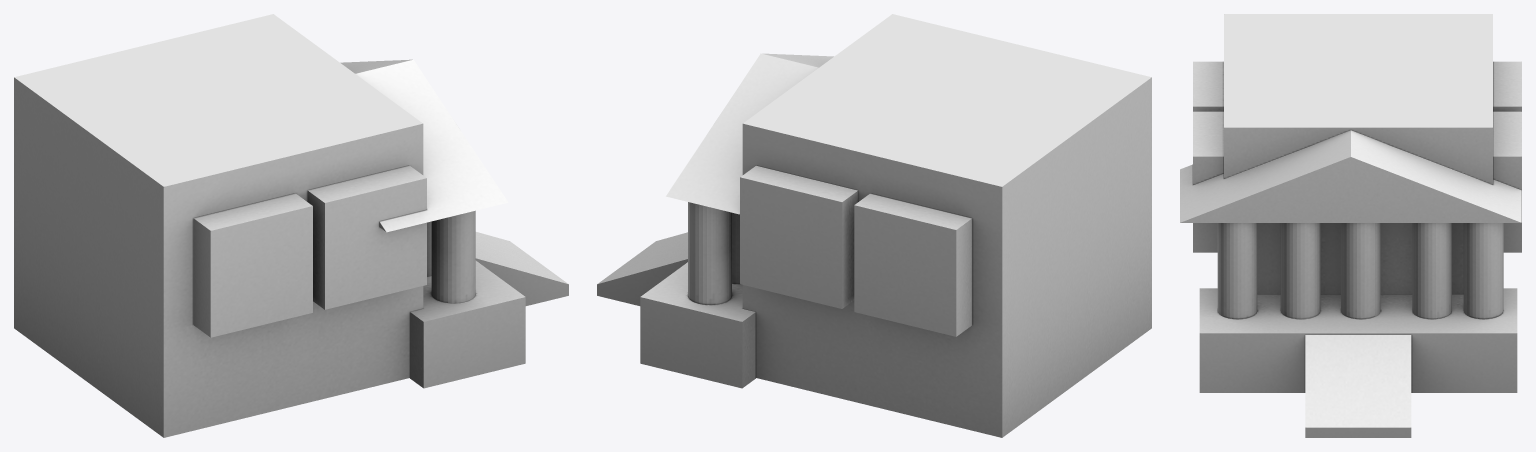
The model's file is building.gltf.
3 views of the same model, side by side, from view 1: azimuth 30°, elevation 25°; view 2: azimuth 150°, elevation 25°; view 3: azimuth 270°, elevation 25° (orthographic). The views are drawn at different scales.
Parts seen in each view (by area): view 1: Cylinder.005; view 2: Cylinder.005; view 3: Cylinder.005.
Part boxes in pixels (bbox=[...]): Cylinder.005: bbox=[14, 14, 568, 437]; Cylinder.005: bbox=[597, 14, 1151, 437]; Cylinder.005: bbox=[1180, 14, 1521, 437].
Size of the model in its own units: 8.83 by 4.72 by 6.45.
Materials: 4 (4 with a texture image).
